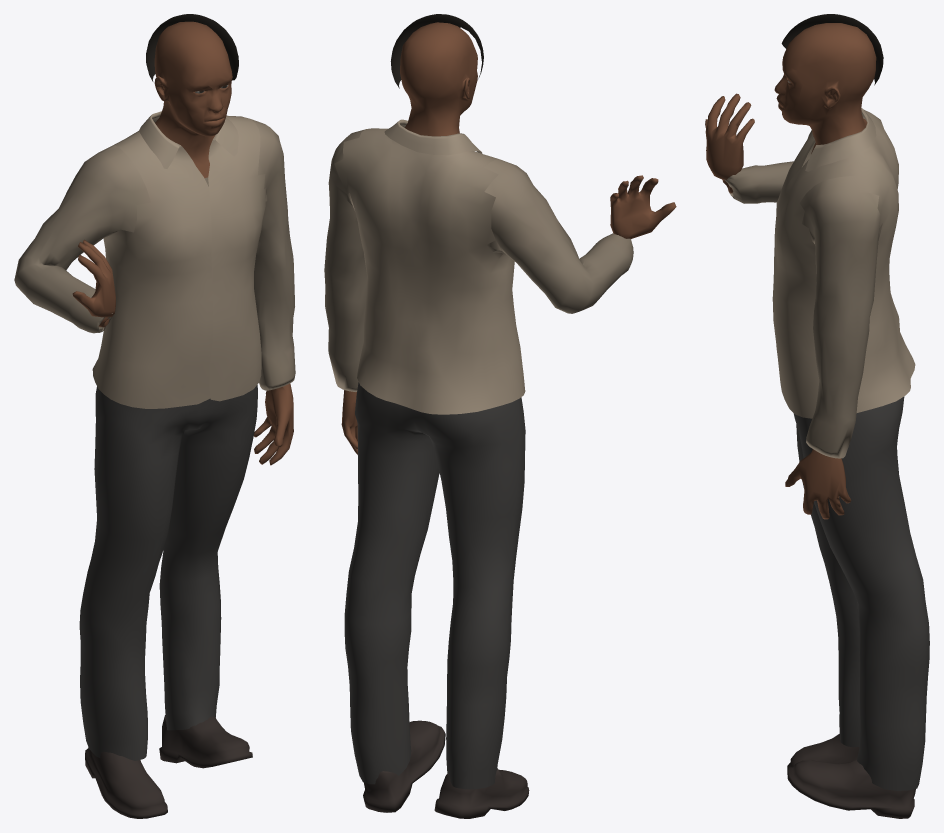
Rendered from participant-02-middle.glb.
3 renders of one model, left to right at view 1: azimuth 30°, elevation 25°; view 2: azimuth 150°, elevation 25°; view 3: azimuth 270°, elevation 25°, orthographic.
Visible parts, largest first — view 1: Participant anatomy and ordinary clothes; view 2: Participant anatomy and ordinary clothes; view 3: Participant anatomy and ordinary clothes.
Boxes of the visible parts, left/top/right/bottom form: Participant anatomy and ordinary clothes: left=14, top=14, right=295, bottom=818; Participant anatomy and ordinary clothes: left=324, top=14, right=676, bottom=818; Participant anatomy and ordinary clothes: left=705, top=14, right=929, bottom=818.
Bounding box in the file's own units: 0.6802 × 1.76 × 0.4568.
